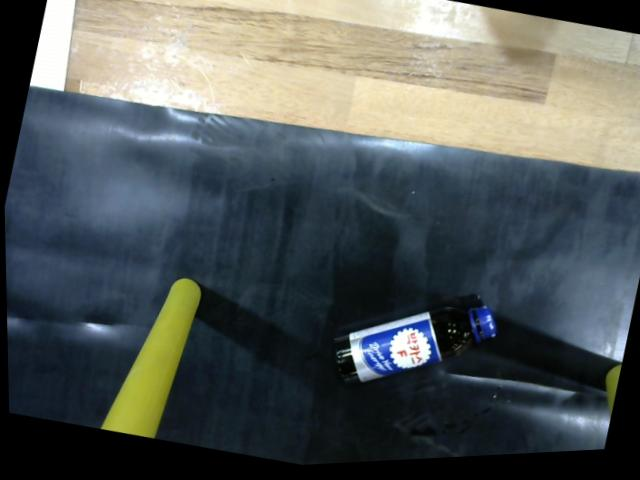glass: (327, 295, 499, 391)
